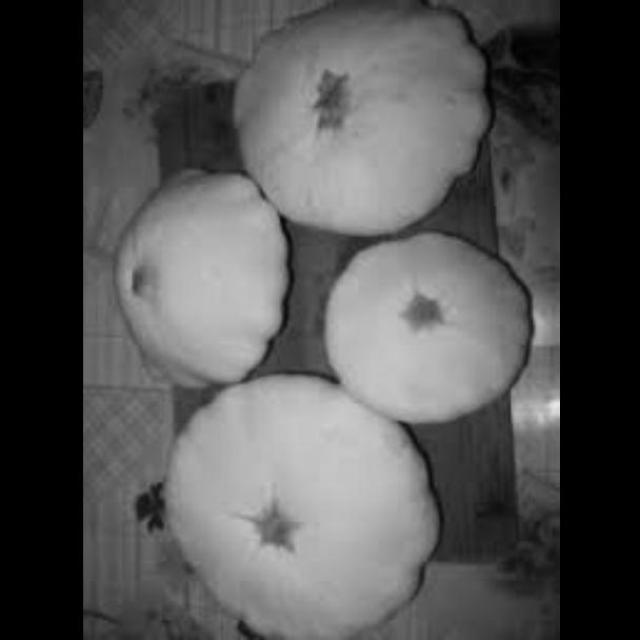bi dao: (147, 366, 449, 640), (225, 1, 493, 233), (316, 220, 530, 426), (100, 176, 281, 388)
